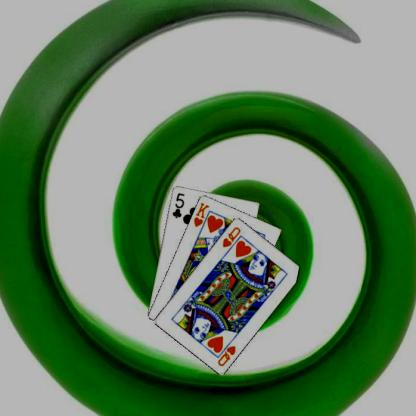5C: (170, 190, 185, 219)
KH: (191, 200, 210, 228)
QH: (214, 337, 237, 367), (220, 224, 242, 249)
